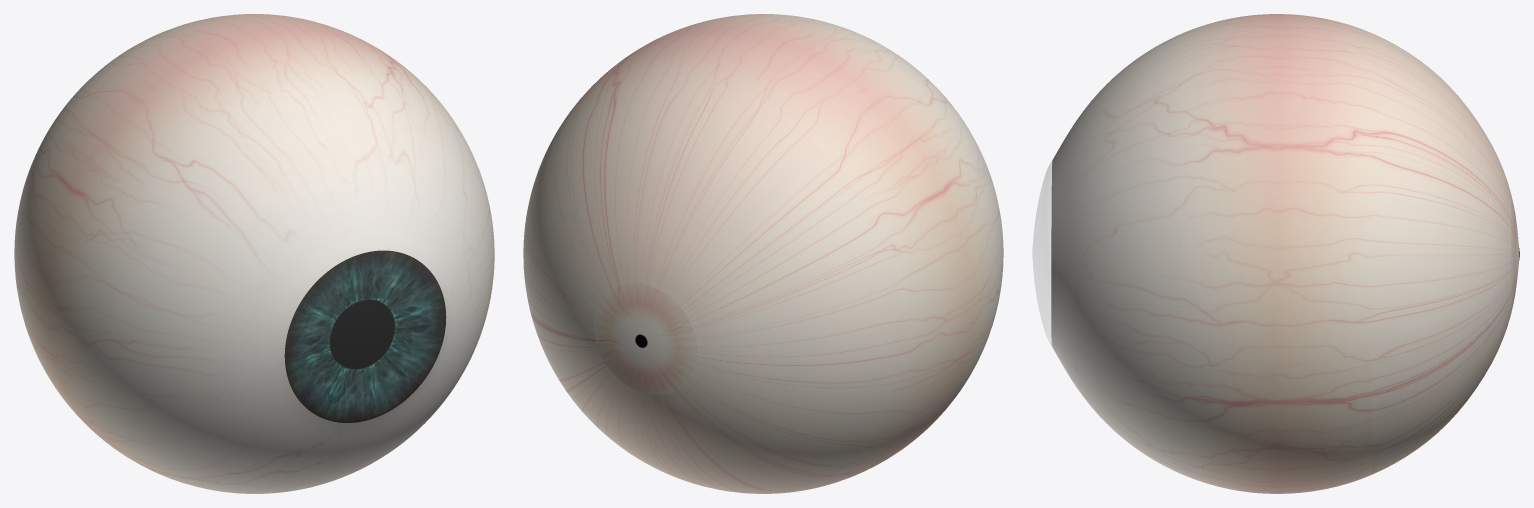
Rendered from eyeball.glb.
3 views of the same model, side by side, from view 1: azimuth 30°, elevation 25°; view 2: azimuth 150°, elevation 25°; view 3: azimuth 270°, elevation 25° (orthographic).
Parts seen in each view (by area): view 1: eyeball_1; view 2: eyeball_1; view 3: eyeball_1.
Boxes of the visible parts, bbox=[...] form: eyeball_1: bbox=[14, 14, 494, 493]; eyeball_1: bbox=[523, 14, 1003, 493]; eyeball_1: bbox=[1032, 14, 1519, 493].
Bounding box in the file's own units: 3.86 × 3.86 × 3.92.
Materials: 4 (2 with a texture image).
